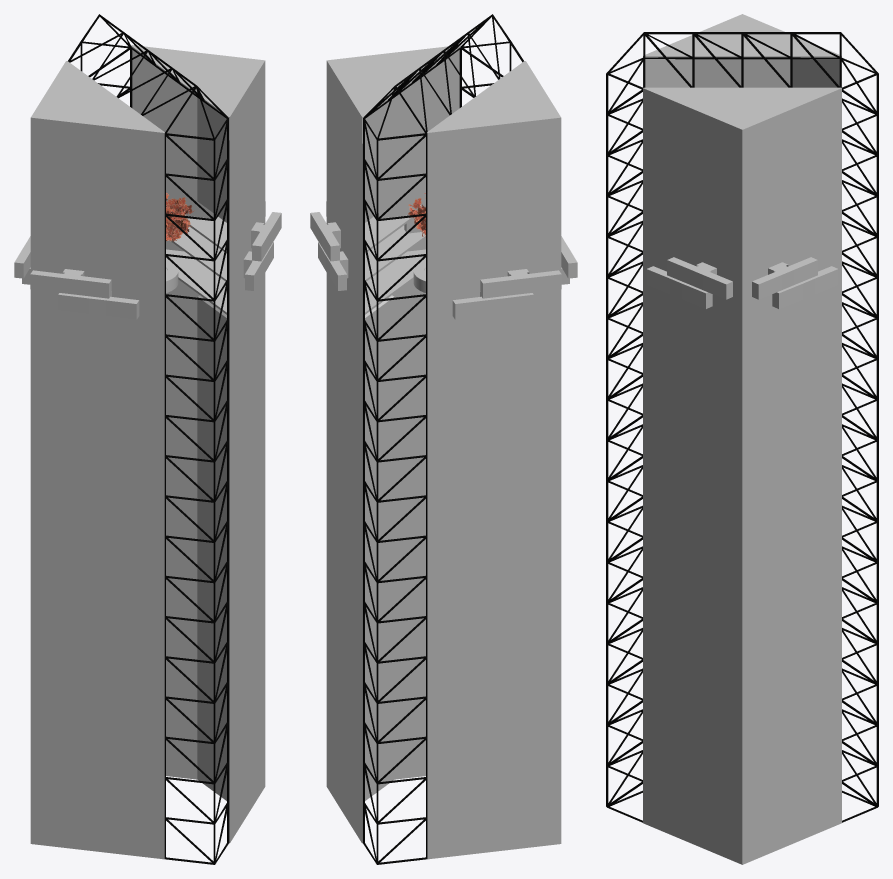
The model's file is Main_Level_Mesh.fbx.
3 views of the same model, side by side, from view 1: azimuth 30°, elevation 25°; view 2: azimuth 150°, elevation 25°; view 3: azimuth 270°, elevation 25° (orthographic).
Parts seen in each view (by area): view 1: Walls_Mesh, WindowTruss_Mesh, SideWindows_Mesh, CafeteriaFloor_Mesh, Floor2_Mesh, Tree_mesh, Floor3_Mesh; view 2: Walls_Mesh, WindowTruss_Mesh, SideWindows_Mesh, CafeteriaFloor_Mesh, Floor2_Mesh, Floor3_Mesh; view 3: Walls_Mesh, WindowTruss_Mesh, SideWindows_Mesh.
Part boxes in pixels (left/top/right/bottom): Walls_Mesh: left=14, top=45, right=281, bottom=859; WindowTruss_Mesh: left=68, top=14, right=229, bottom=864; SideWindows_Mesh: left=197, top=98, right=226, bottom=800; CafeteriaFloor_Mesh: left=166, top=249, right=226, bottom=314; Floor2_Mesh: left=170, top=233, right=226, bottom=281; Tree_mesh: left=166, top=193, right=194, bottom=241; Floor3_Mesh: left=185, top=215, right=226, bottom=253; Walls_Mesh: left=310, top=45, right=577, bottom=859; WindowTruss_Mesh: left=362, top=14, right=523, bottom=864; SideWindows_Mesh: left=365, top=98, right=394, bottom=800; CafeteriaFloor_Mesh: left=365, top=249, right=425, bottom=314; Floor2_Mesh: left=365, top=232, right=425, bottom=281; Floor3_Mesh: left=365, top=215, right=414, bottom=253; Walls_Mesh: left=643, top=14, right=841, bottom=864; WindowTruss_Mesh: left=606, top=32, right=878, bottom=822; SideWindows_Mesh: left=694, top=59, right=790, bottom=87.
Bounding box in the file's own units: 18970 × 55294 × 17624.
